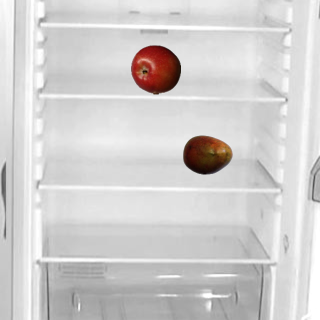Apple Braeburn: (130, 44, 180, 94)
Mango Red: (182, 129, 232, 179)
